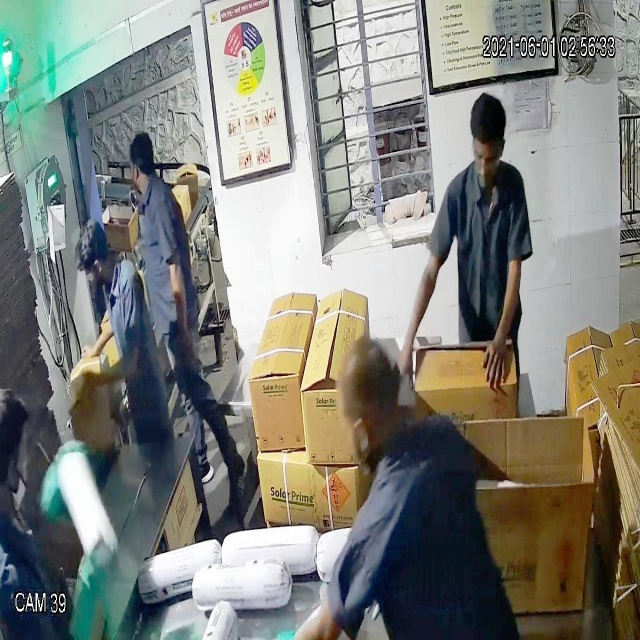Gafas: (460, 137, 506, 176)
